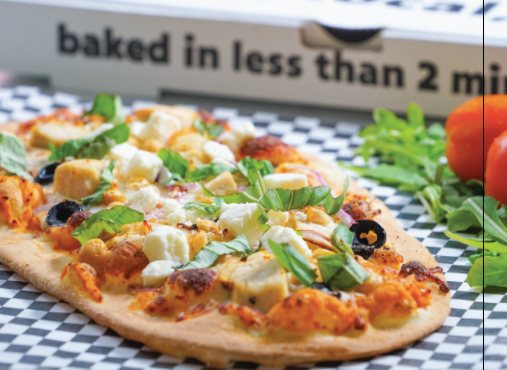sandwich: (0, 99, 454, 360)
